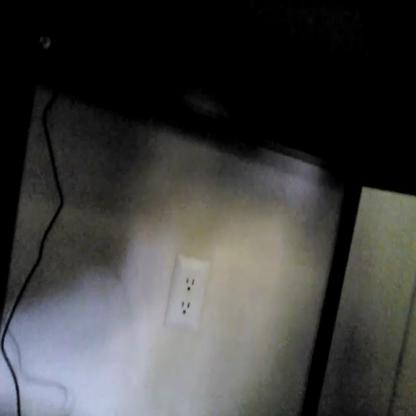OUTLET: (164, 255, 206, 332)
